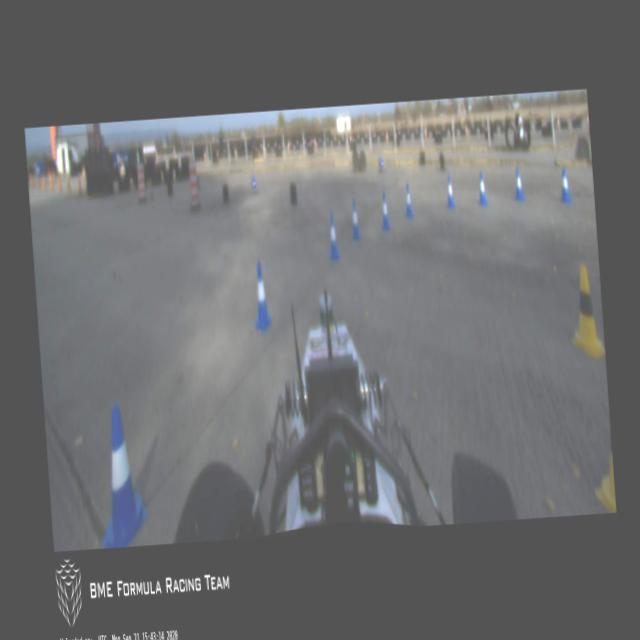blue_cone: (92, 402, 150, 548), (250, 260, 272, 330), (326, 211, 340, 259), (378, 191, 391, 229), (512, 166, 525, 201), (558, 167, 571, 202), (349, 200, 360, 239), (476, 171, 488, 206), (402, 184, 413, 218), (446, 175, 456, 208)
yellow_cone: (568, 264, 604, 358)
